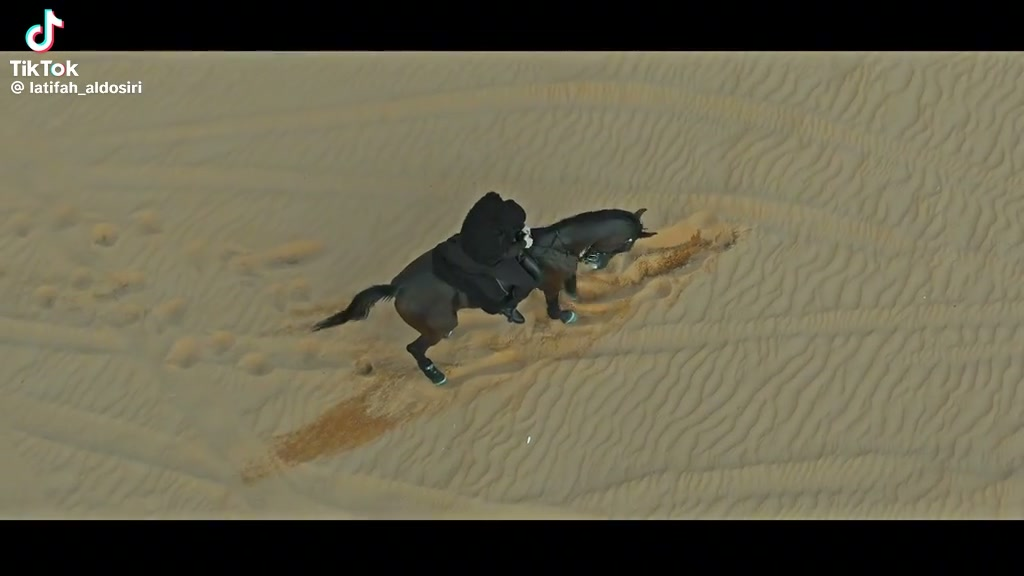animal: (311, 249, 475, 385)
vehicle_track: (101, 77, 1005, 186), (21, 299, 1020, 376), (13, 387, 501, 524)
